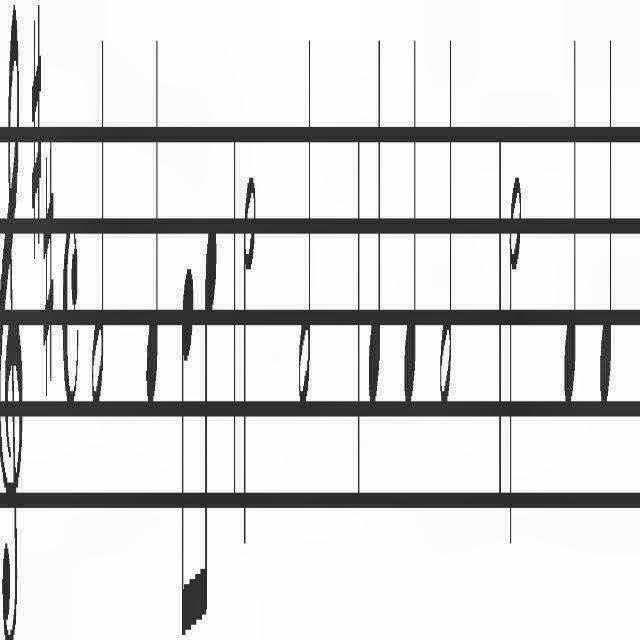Bass-clef: (1, 0, 23, 640)
Diez: (42, 143, 56, 397), (30, 7, 42, 274)
Eighth-note: (196, 218, 218, 626), (180, 257, 194, 638)
Half-note: (438, 29, 454, 423), (243, 156, 257, 558), (91, 25, 105, 419), (298, 29, 312, 423), (509, 172, 523, 552)
Quarter-note: (144, 29, 160, 423), (403, 19, 417, 419), (563, 28, 577, 416), (368, 21, 380, 418), (600, 15, 612, 409)
